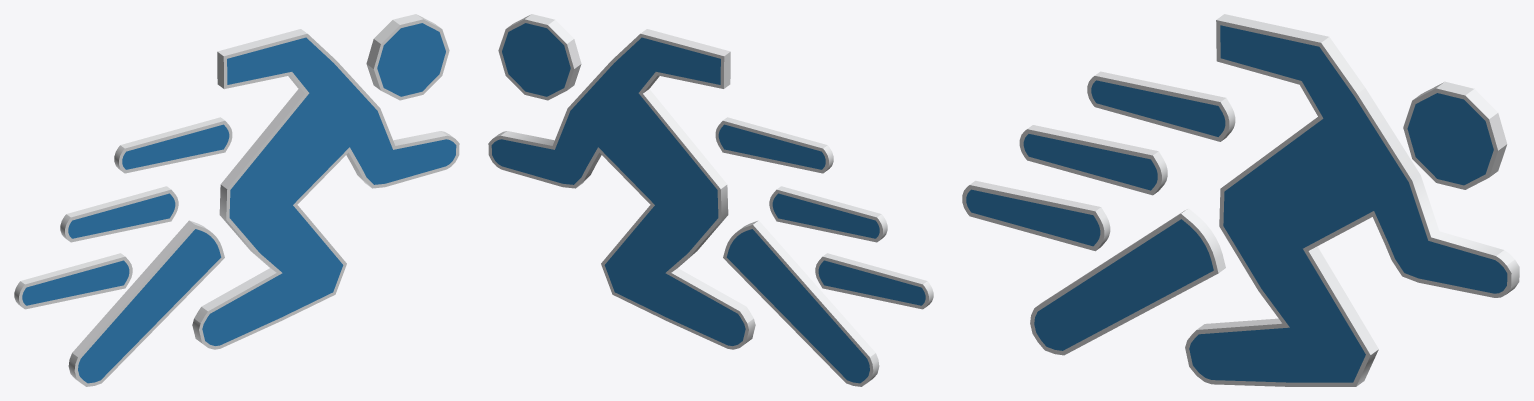
File: speed.fbx
3 views of the same model, side by side, from view 1: azimuth 30°, elevation 25°; view 2: azimuth 150°, elevation 25°; view 3: azimuth 330°, elevation 25° (orthographic). The views are drawn at different scales.
Visible parts, largest first — view 1: speed; view 2: speed; view 3: speed.
Boxes of the visible parts, x1,y1,x2,y2 form: speed: (14, 14, 459, 386); speed: (488, 14, 933, 386); speed: (962, 14, 1519, 386).
Bounding box in the file's own units: 9.43 × 6.16 × 0.2717.
